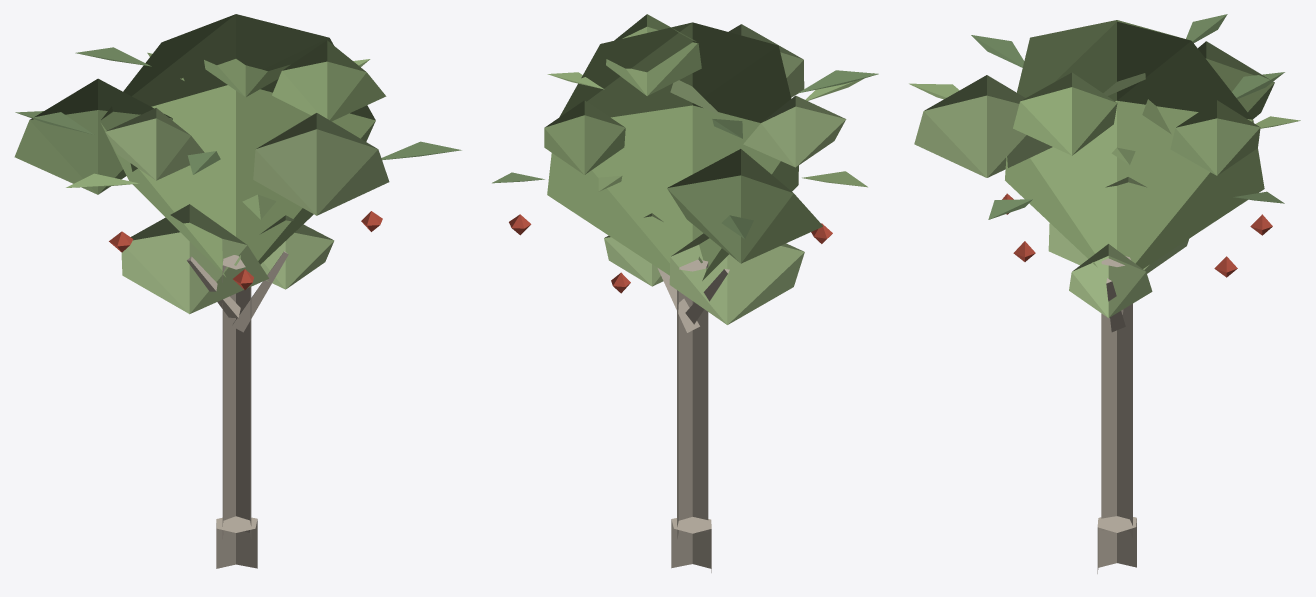
File: shu.chuizhi@fruiting__summer.glb
3 views of the same model, side by side, from view 1: azimuth 30°, elevation 25°; view 2: azimuth 150°, elevation 25°; view 3: azimuth 270°, elevation 25° (orthographic).
Parts seen in each view (by area): view 1: shu.chuizhi@fruiting__summer; view 2: shu.chuizhi@fruiting__summer; view 3: shu.chuizhi@fruiting__summer.
Boxes of the visible parts, x1,y1,x2,y2 form: shu.chuizhi@fruiting__summer: (14, 14, 461, 568); shu.chuizhi@fruiting__summer: (492, 14, 878, 572); shu.chuizhi@fruiting__summer: (909, 14, 1300, 573).
Bounding box in the file's own units: 6.6 × 10.27 × 6.62.
